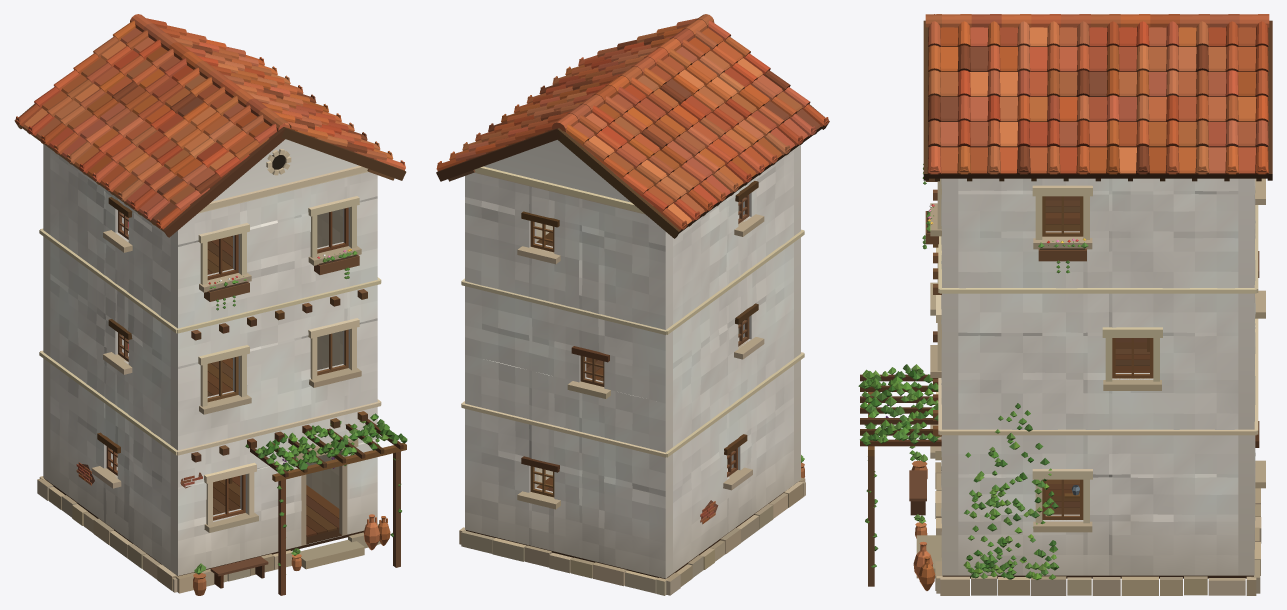
Rendered from pleb_4_3.glb.
The picture shows the model from 3 angles, left to right: view 1: azimuth 30°, elevation 25°; view 2: azimuth 150°, elevation 25°; view 3: azimuth 270°, elevation 25°; orthographic projection. The views are drawn at different scales.
Visible parts, largest first — view 1: Walls, House, Rooms; view 2: Walls, House, Rooms; view 3: Walls, House, Rooms.
Boxes of the visible parts, left/top/right/bottom form: Walls: left=43, top=139, right=377, bottom=575; House: left=14, top=14, right=407, bottom=595; Rooms: left=116, top=209, right=342, bottom=536; Walls: left=465, top=140, right=800, bottom=578; House: left=436, top=14, right=829, bottom=595; Rooms: left=536, top=202, right=739, bottom=491; Walls: left=941, top=178, right=1255, bottom=575; House: left=858, top=14, right=1272, bottom=595; Rooms: left=1045, top=196, right=1149, bottom=514.
Bounding box in the file's own units: 4.44 × 7.73 × 5.57.
3 materials, 3 textured.
